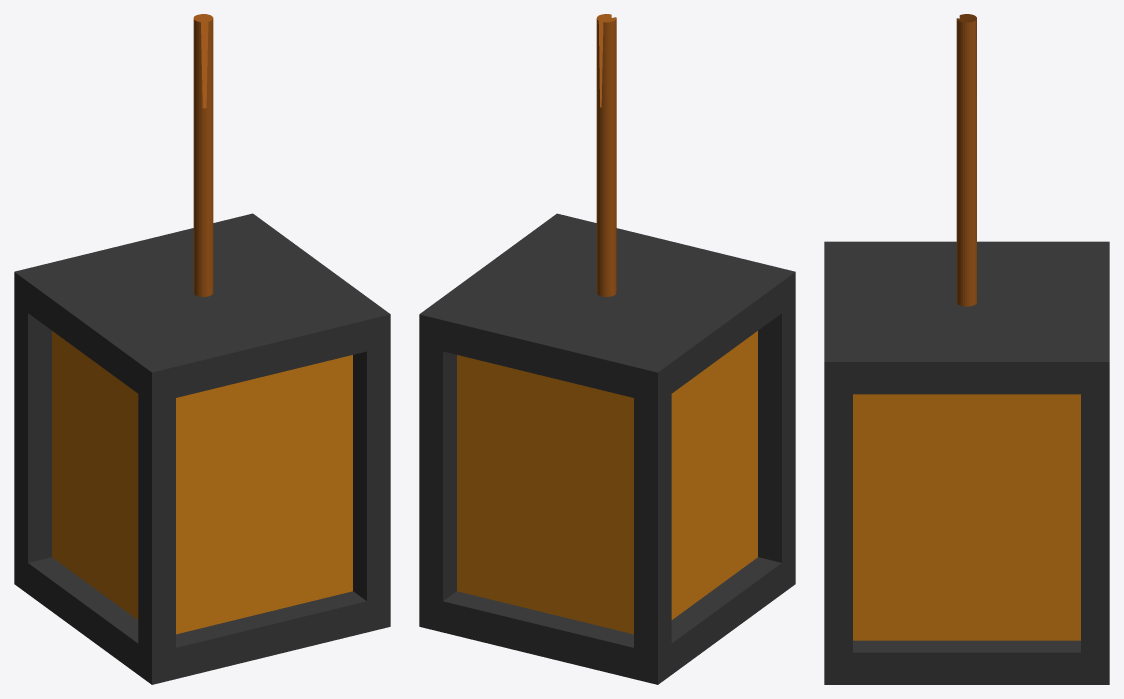
Rendered from Lampe.fbx.
The picture shows the model from 3 angles, left to right: view 1: azimuth 30°, elevation 25°; view 2: azimuth 150°, elevation 25°; view 3: azimuth 270°, elevation 25°; orthographic projection. The views are drawn at different scales.
Parts seen in each view (by area): view 1: Lampe; view 2: Lampe; view 3: Lampe.
Boxes of the visible parts, x1,y1,x2,y2 form: Lampe: [14, 14, 390, 684]; Lampe: [419, 14, 795, 684]; Lampe: [824, 14, 1109, 684].
Size of the model in its own units: 40.07 by 94.14 by 40.07.
